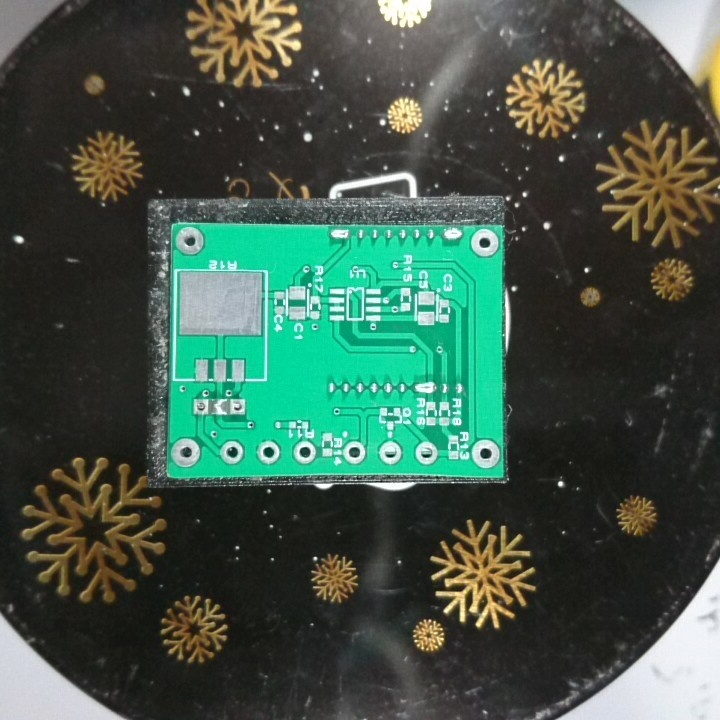F: (469, 226, 501, 263), (170, 435, 204, 469), (468, 437, 501, 472), (173, 225, 207, 257), (253, 438, 284, 469), (342, 438, 370, 467), (219, 441, 247, 469), (290, 438, 316, 467), (413, 438, 438, 468), (376, 440, 404, 466), (190, 396, 211, 418), (228, 397, 248, 417)
P: (326, 226, 357, 246), (411, 376, 438, 398), (441, 226, 465, 244)
